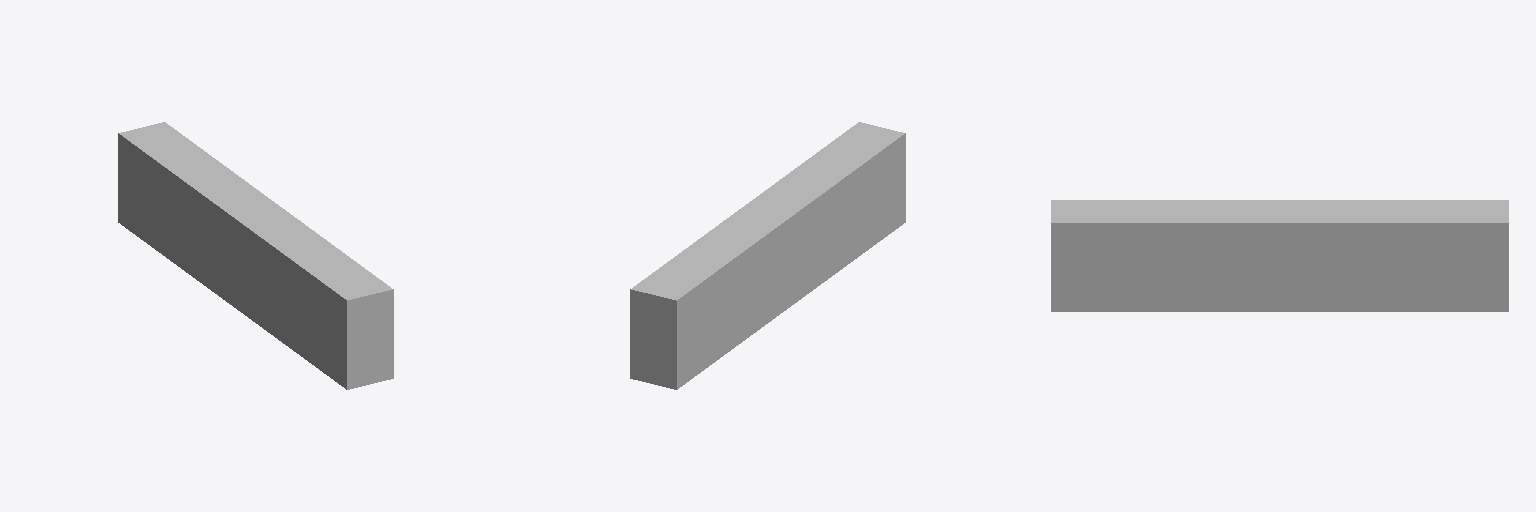
Rendered from WEAPON_1.obj.
The picture shows the model from 3 angles: view 1: azimuth 30°, elevation 25°; view 2: azimuth 150°, elevation 25°; view 3: azimuth 270°, elevation 25°; orthographic projection.
Visible parts, largest first — view 1: HITBOX_MODEL_GUN_Cube.009; view 2: HITBOX_MODEL_GUN_Cube.009; view 3: HITBOX_MODEL_GUN_Cube.009.
Part boxes in pixels (x1,y1,x2,y2): HITBOX_MODEL_GUN_Cube.009: (118, 122, 393, 389); HITBOX_MODEL_GUN_Cube.009: (630, 122, 905, 389); HITBOX_MODEL_GUN_Cube.009: (1051, 200, 1508, 311).
Bounding box in the file's own units: 0.3142 × 0.5783 × 2.68.